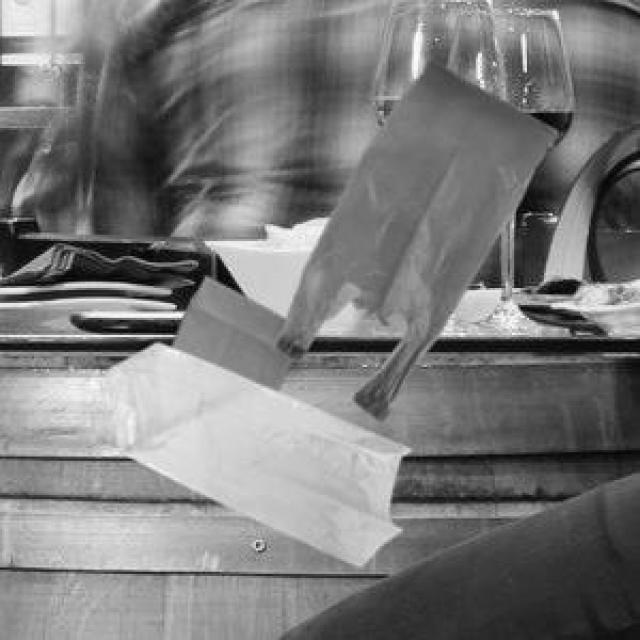paper: (166, 273, 288, 388)
